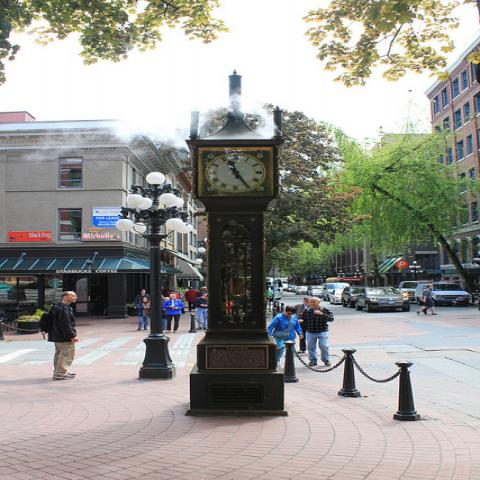car: (355, 286, 411, 312), (415, 283, 470, 305), (396, 281, 436, 302), (321, 283, 351, 305), (341, 286, 369, 308), (307, 286, 323, 298), (295, 286, 308, 295), (292, 286, 297, 292)
